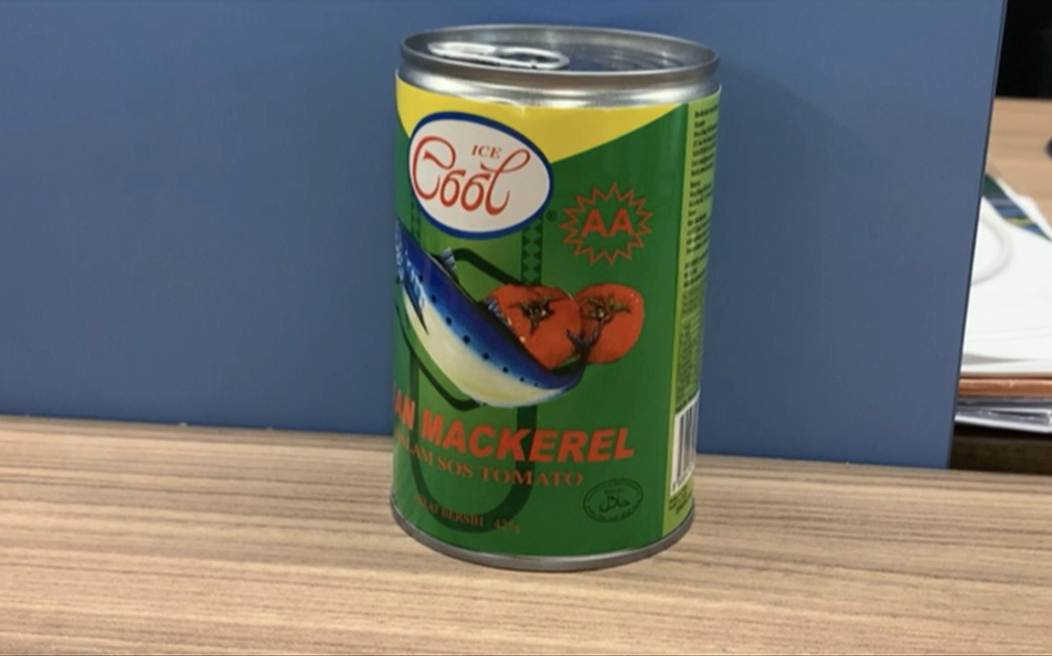sardines_450g: (400, 83, 703, 531)
